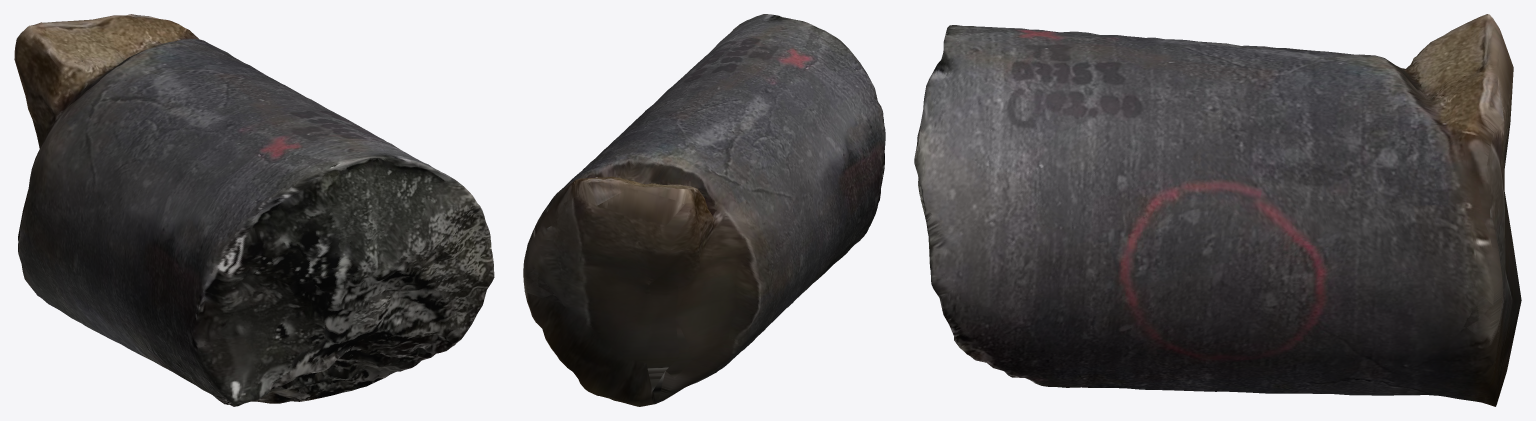
Rendered from PECLD07758 T8.glb.
The picture shows the model from 3 angles, left to right: view 1: azimuth 30°, elevation 25°; view 2: azimuth 150°, elevation 25°; view 3: azimuth 270°, elevation 25°; orthographic projection. The views are drawn at different scales.
Visible parts, largest first — view 1: baked_mesh; view 2: baked_mesh; view 3: baked_mesh.
Boxes of the visible parts, x1,y1,x2,y2 form: baked_mesh: (14,14,494,406); baked_mesh: (523,14,885,406); baked_mesh: (914,14,1521,406).
Bounding box in the file's own units: 0.197 × 0.2103 × 0.3275.
Materials: 1 (1 with a texture image).
